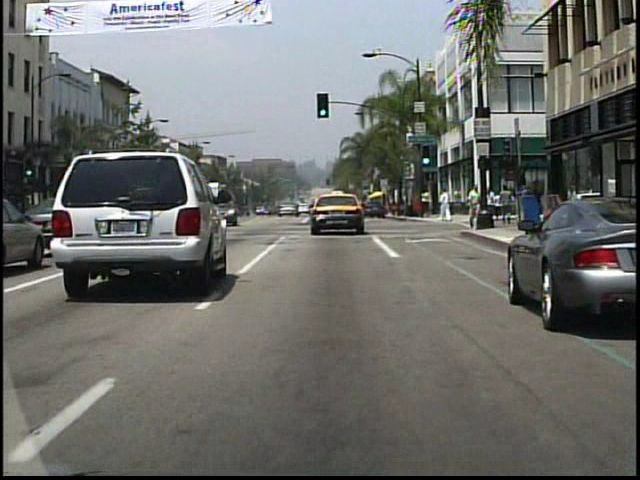person: (477, 187, 495, 230), (498, 186, 515, 227), (467, 183, 481, 230), (483, 185, 496, 228), (439, 188, 451, 222), (493, 190, 504, 223), (421, 189, 432, 218)
